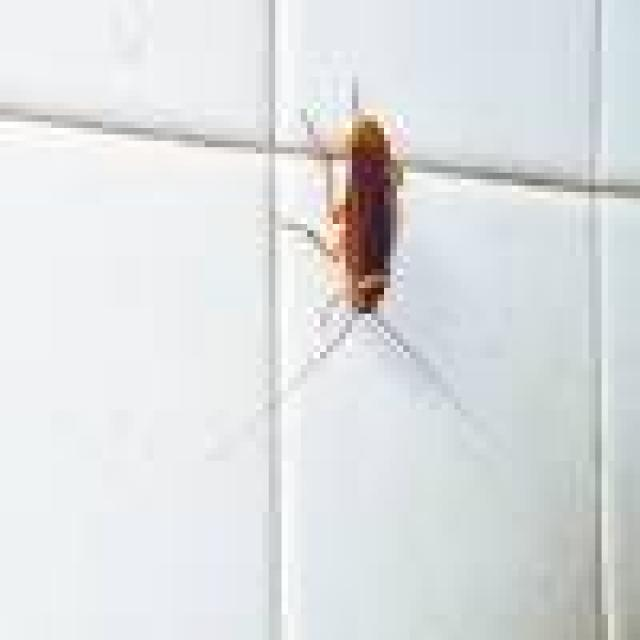Cockroach: (276, 70, 422, 384)
